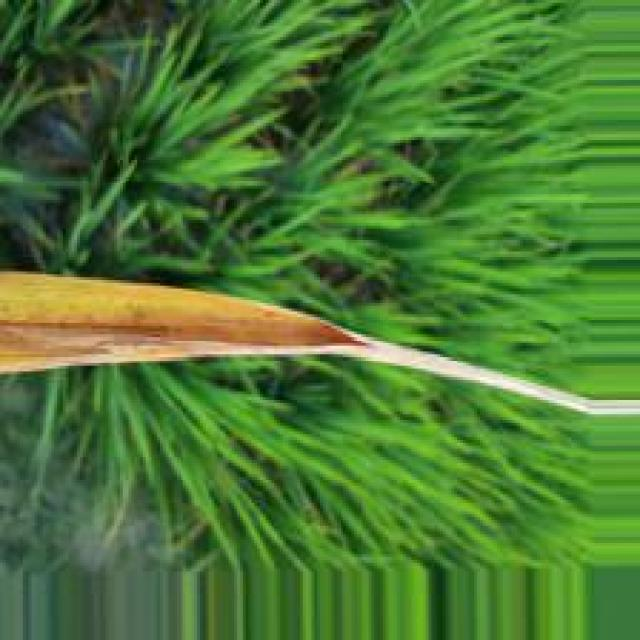Bacterial_Leaf_Blight: (1, 320, 365, 372), (2, 272, 331, 327)
